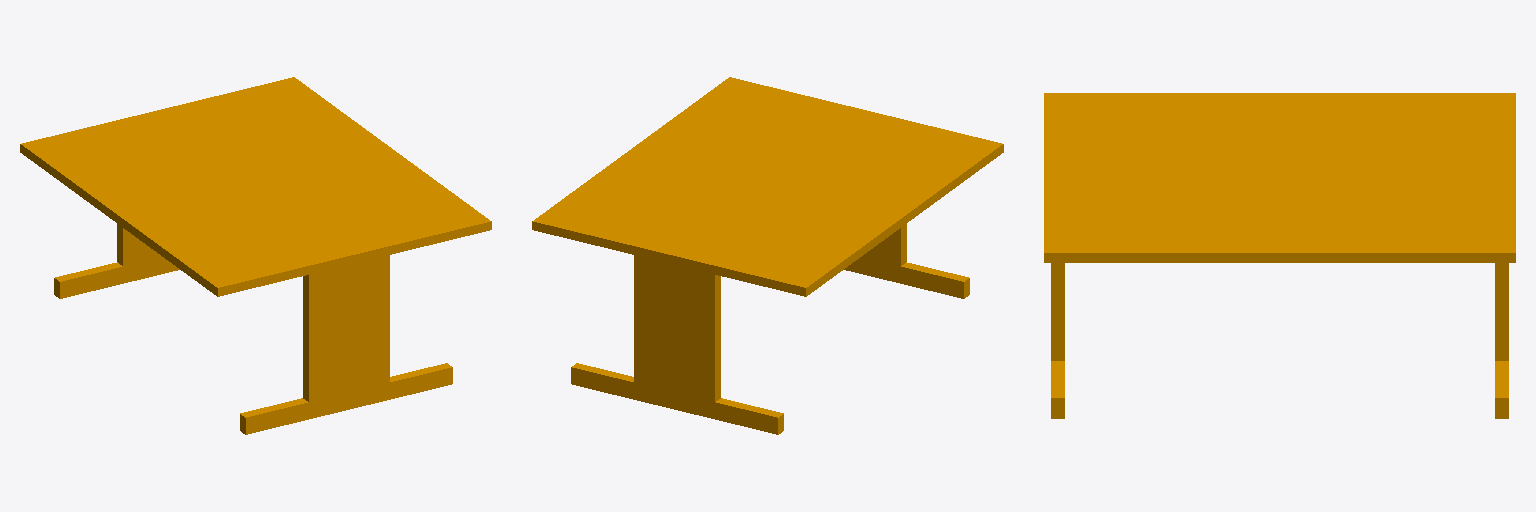
robot.urdf — table:
<?xml version="1.0" ?>
<robot name="table">
  <link name="baseLink">
    <contact>
      <lateral_friction value="1.0"/>
      <rolling_friction value="0.0"/>
      <contact_cfm value="0.0"/>
      <contact_erp value="1.0"/>
    </contact>
    <inertial>
      <origin rpy="0 0 0" xyz="0 0 0"/>
       <mass value="1.0"/>
       <inertia ixx="1" ixy="0" ixz="0" iyy="1" iyz="0" izz="1"/>
    </inertial>
    <visual>
      <origin rpy="0 0 0" xyz="0 0 0"/>
      <geometry>
				<mesh filename="table.obj" scale="1 1 1"/>
      </geometry>
    </visual>
    <collision>
      <origin rpy="0 0 0" xyz="0 0 0"/>
      <geometry>
	 	    <mesh filename="table.obj" scale="1 1 1"/>
      </geometry>
    </collision>
  </link>
</robot>

--- What the picture shows (computed from the rendered views, not written in the file) ---
3 views of the same robot in one strip: view 1: azimuth 30°, elevation 25°; view 2: azimuth 150°, elevation 25°; view 3: azimuth 270°, elevation 25° (orthographic).
Model table with 1 links and 0 joints (none), rooted at baseLink, posed all joints at 0.
Links seen in each view (by area): view 1: baseLink; view 2: baseLink; view 3: baseLink.
Boxes of the visible links, x1,y1,x2,y2 form: baseLink: (20,77,491,434); baseLink: (532,77,1003,434); baseLink: (1044,93,1515,418).
Size in the robot's own frame: 1.3 by 1.62 by 0.7098 metres.
1 mesh visuals loaded from 1 distinct referenced files (1 OBJ).